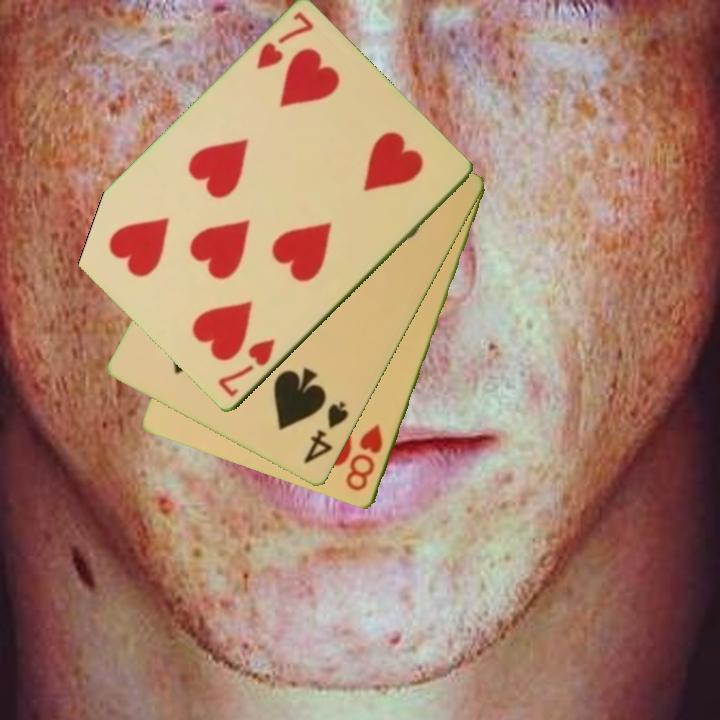4s: (300, 398, 352, 467)
7h: (214, 336, 279, 401), (253, 8, 317, 73)
8h: (342, 421, 386, 495)
